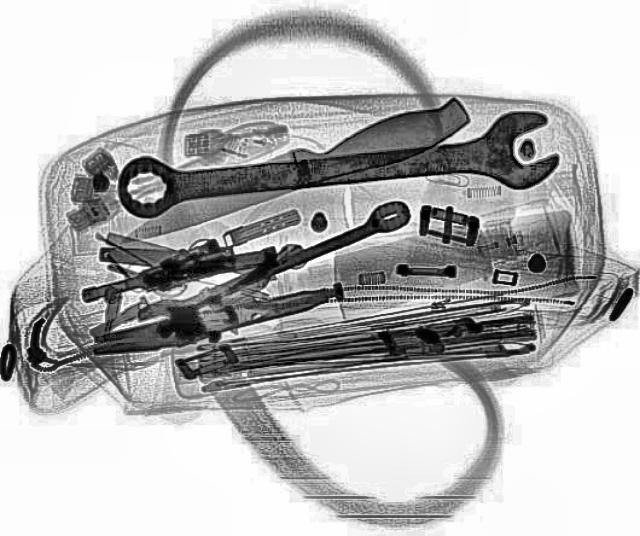Gun: (71, 227, 279, 305)
Knife: (106, 89, 478, 258)
Wrench: (130, 192, 418, 334)
